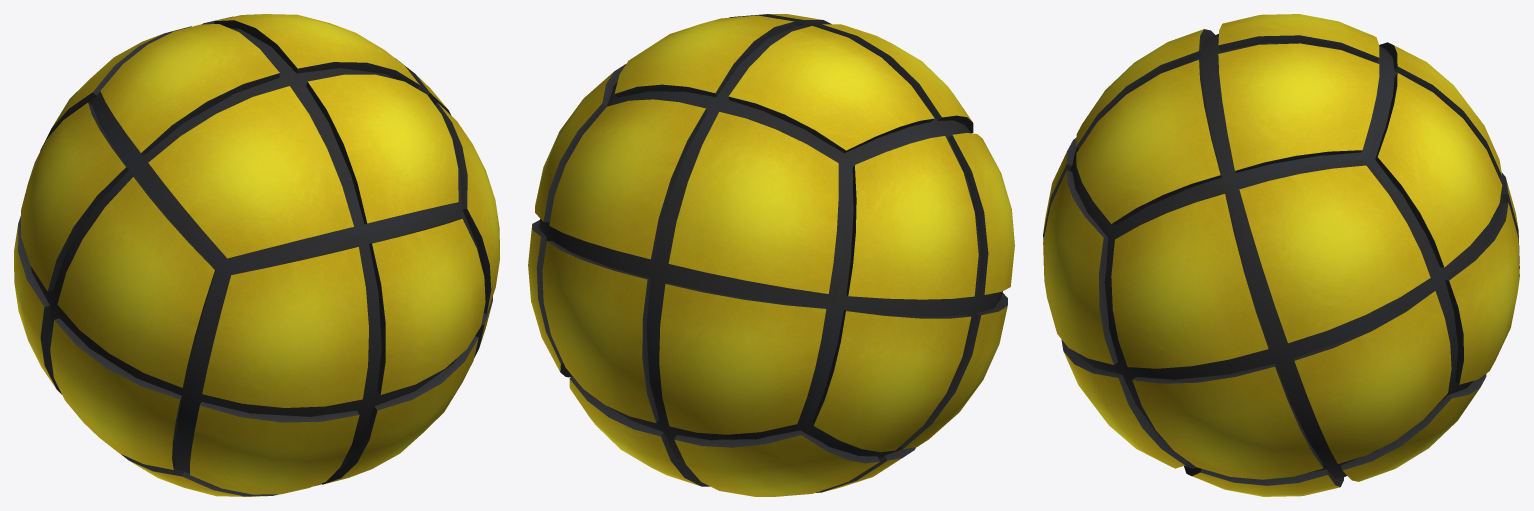
The model's file is cannonbolt-ball.glb.
3 renders of one model, left to right at view 1: azimuth 30°, elevation 25°; view 2: azimuth 150°, elevation 25°; view 3: azimuth 270°, elevation 25°, orthographic.
Visible parts, largest first — view 1: Cannonbolt_Ball; view 2: Cannonbolt_Ball; view 3: Cannonbolt_Ball.
Boxes of the visible parts, bbox=[...] form: Cannonbolt_Ball: bbox=[14, 14, 499, 496]; Cannonbolt_Ball: bbox=[528, 14, 1014, 496]; Cannonbolt_Ball: bbox=[1043, 14, 1519, 496].
Size of the model in its own units: 2 by 2.02 by 2.02.
1 material, 1 textured.
